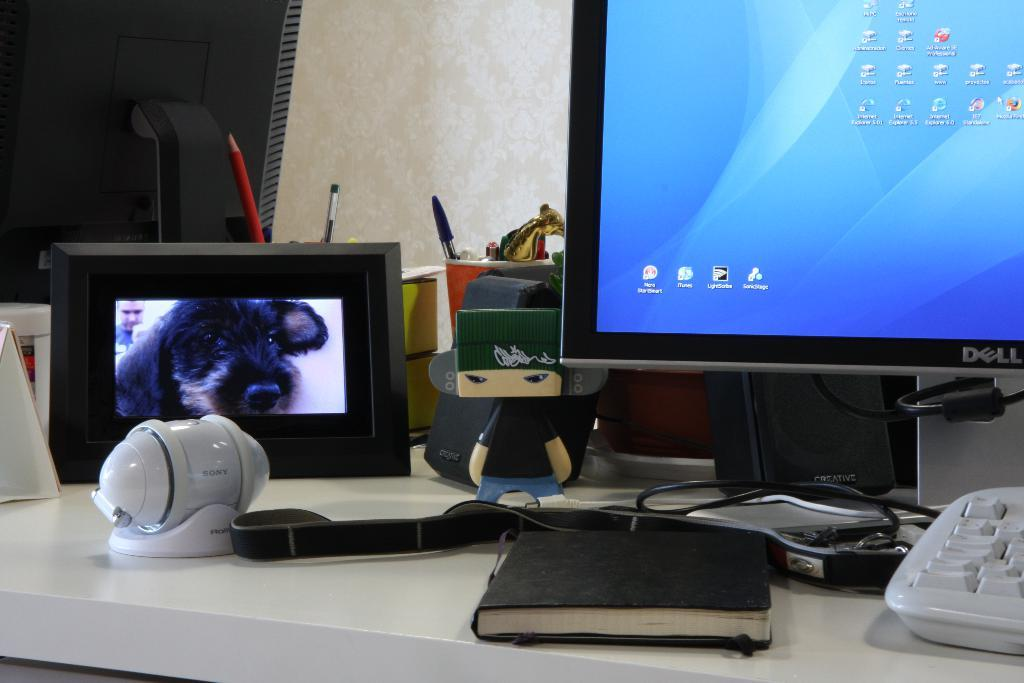Computer-keyboard: (884, 487, 1023, 659)
Computer-monitor: (561, 0, 1019, 588)
